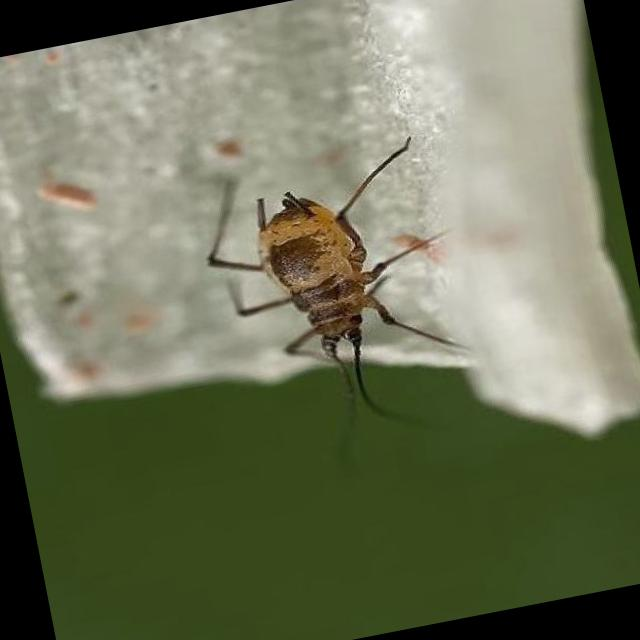aphid: (186, 152, 491, 458)
